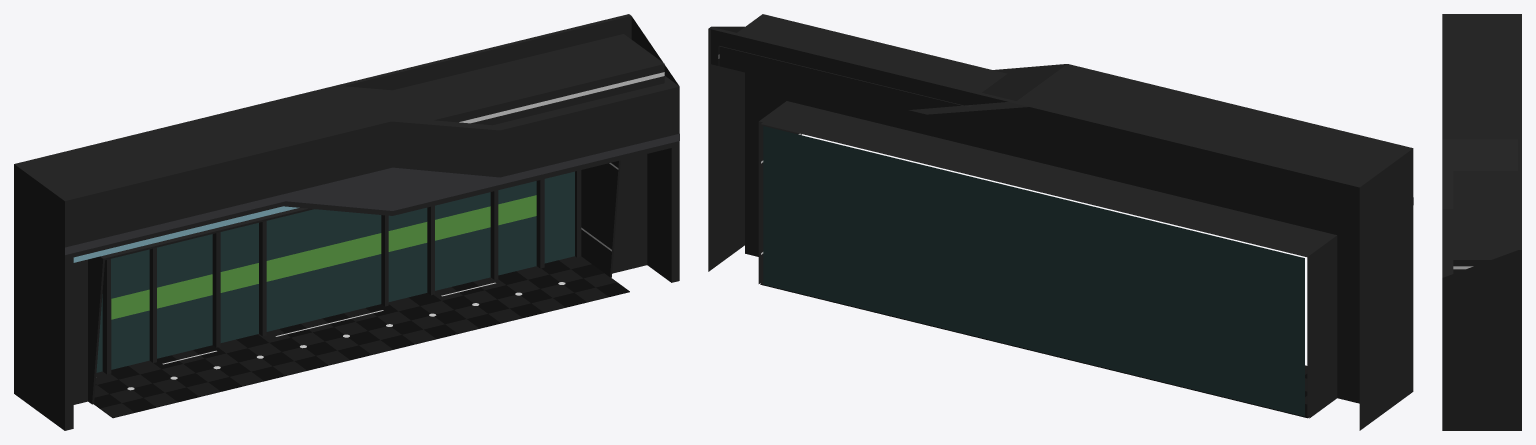
The model's file is Wall_Door_14x5x2_001_L3.fbx.
3 views of the same model, side by side, from view 1: azimuth 30°, elevation 25°; view 2: azimuth 150°, elevation 25°; view 3: azimuth 270°, elevation 25° (orthographic). The views are drawn at different scales.
Parts seen in each view (by area): view 1: Wall_Door_14x5x2_001_L3; view 2: Wall_Door_14x5x2_001_L3; view 3: Wall_Door_14x5x2_001_L3.
Part boxes in pixels (<box>): Wall_Door_14x5x2_001_L3: <box>14,14,679,430</box>; Wall_Door_14x5x2_001_L3: <box>708,14,1413,430</box>; Wall_Door_14x5x2_001_L3: <box>1442,14,1521,430</box>.
Bounding box in the file's own units: 14 × 5 × 2.
